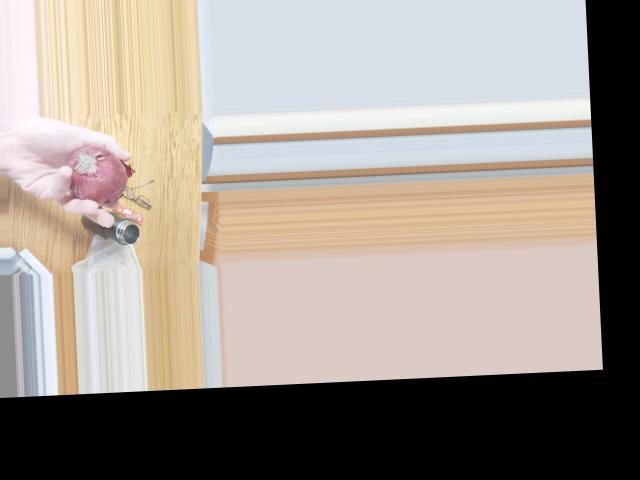onion: (60, 140, 124, 203)
